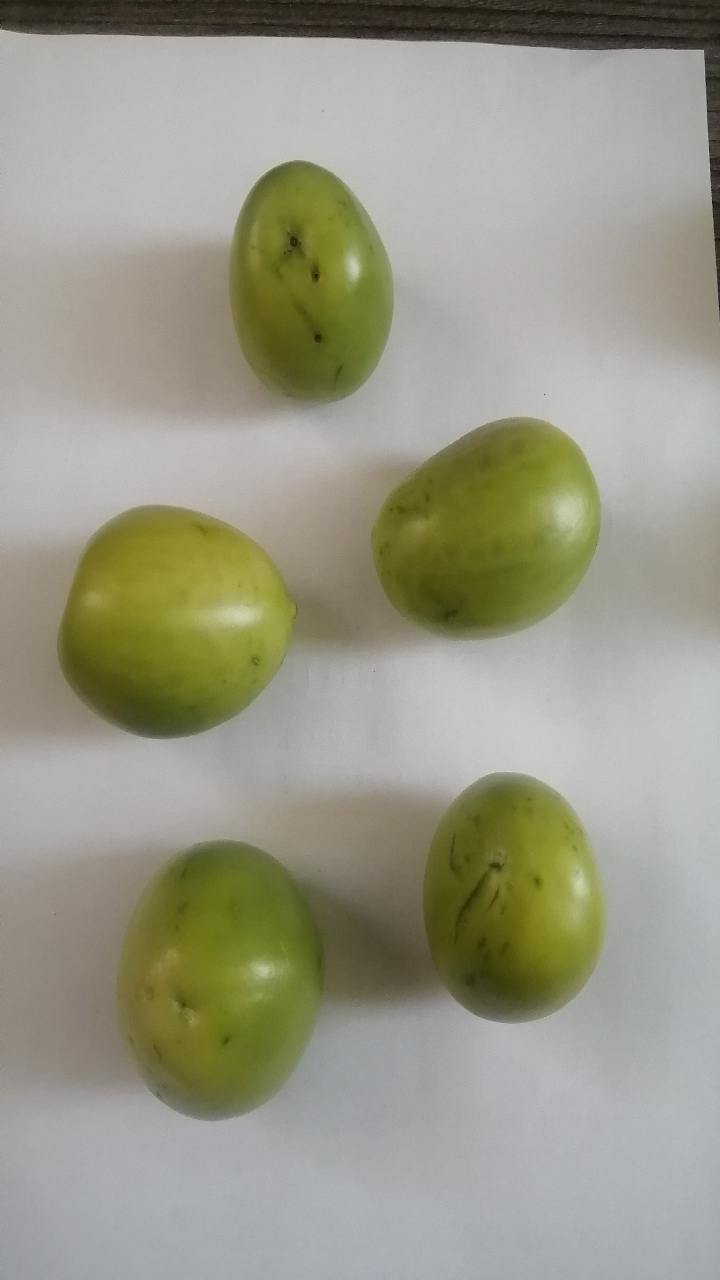tomateVerde: (91, 811, 358, 1155), (43, 479, 303, 769), (198, 129, 429, 425), (404, 760, 641, 1048), (358, 397, 606, 655)
